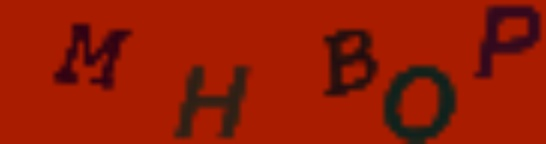B: (320, 26, 378, 97)
H: (170, 63, 249, 142)
M: (50, 19, 137, 91)
O: (377, 64, 460, 143)
P: (470, 1, 546, 80)
